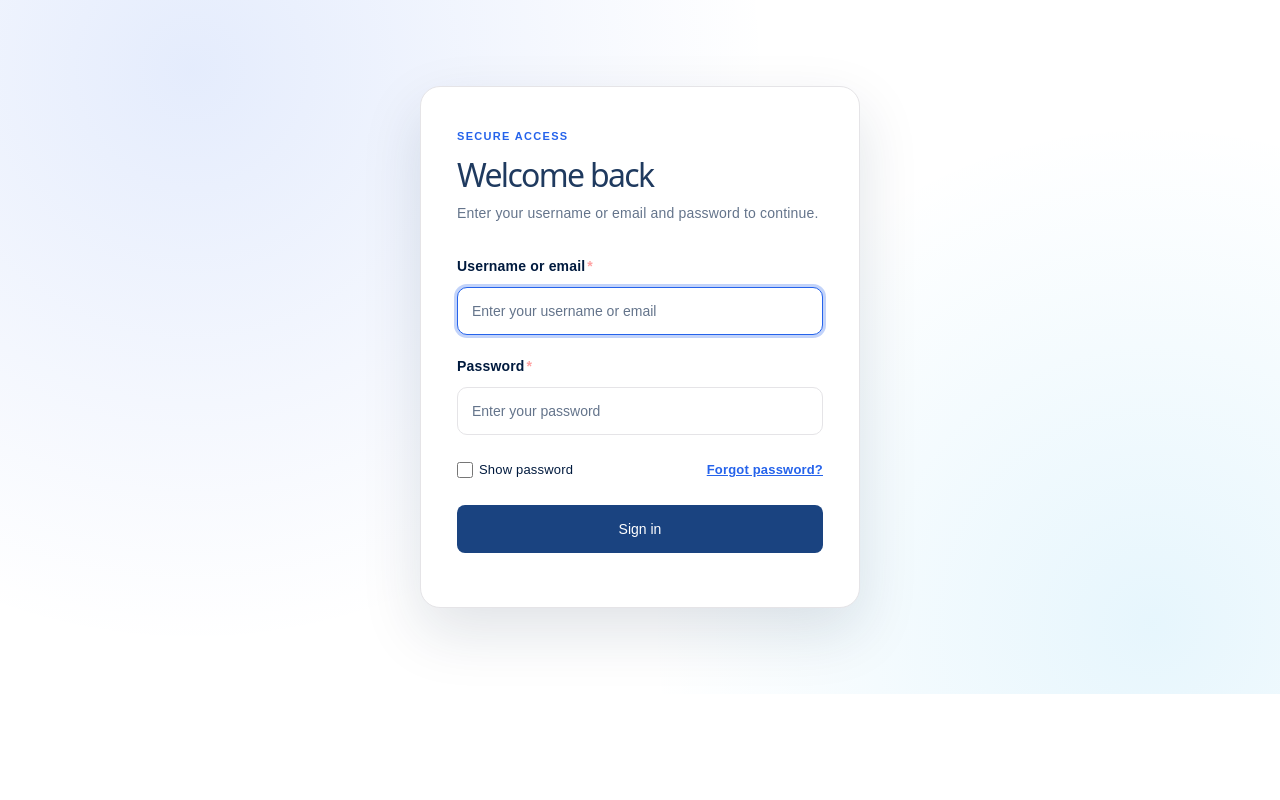
Test case: LoginForm › shows and hides the password without changing its value
In the password field labelled "Password": (640, 411) top-left (457, 387), bottom-right (823, 435), type "secret value"
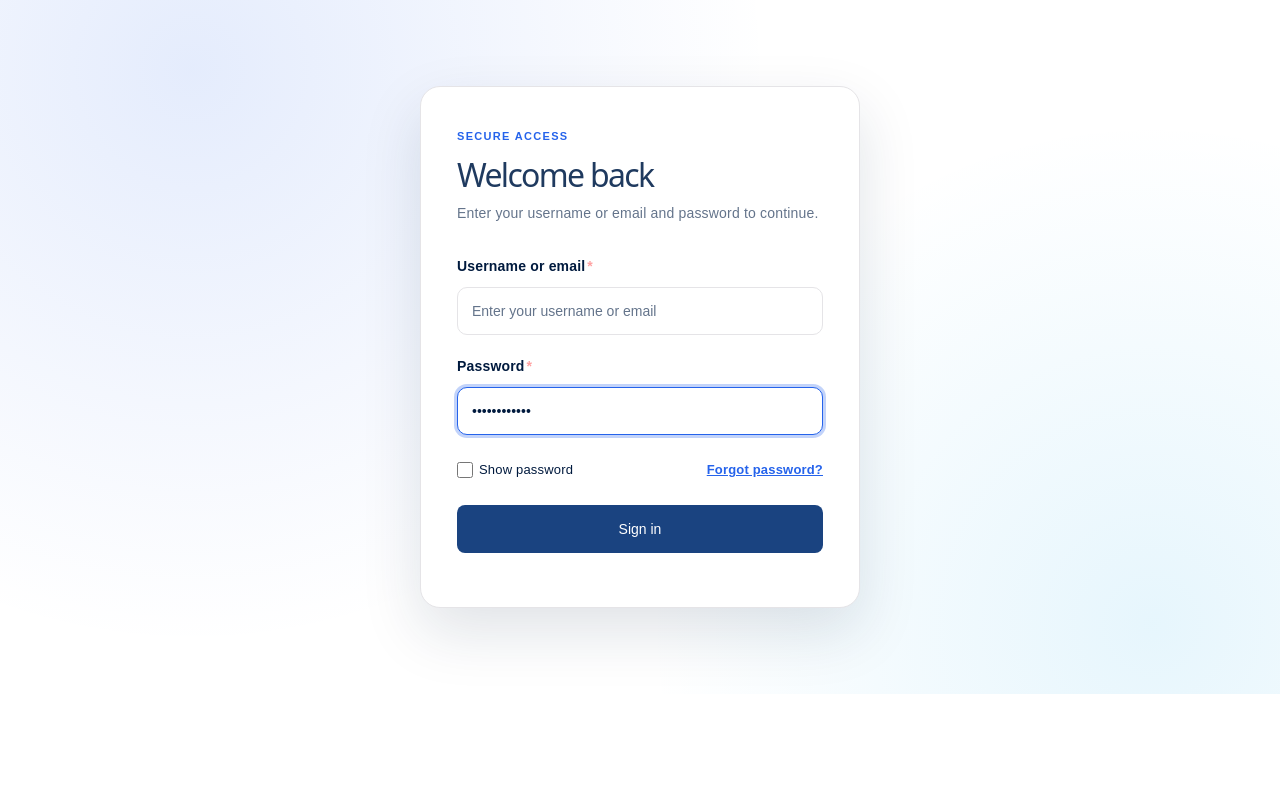
Click the checkbox labelled "Show password": click(465, 470) top-left (457, 462), bottom-right (473, 478)
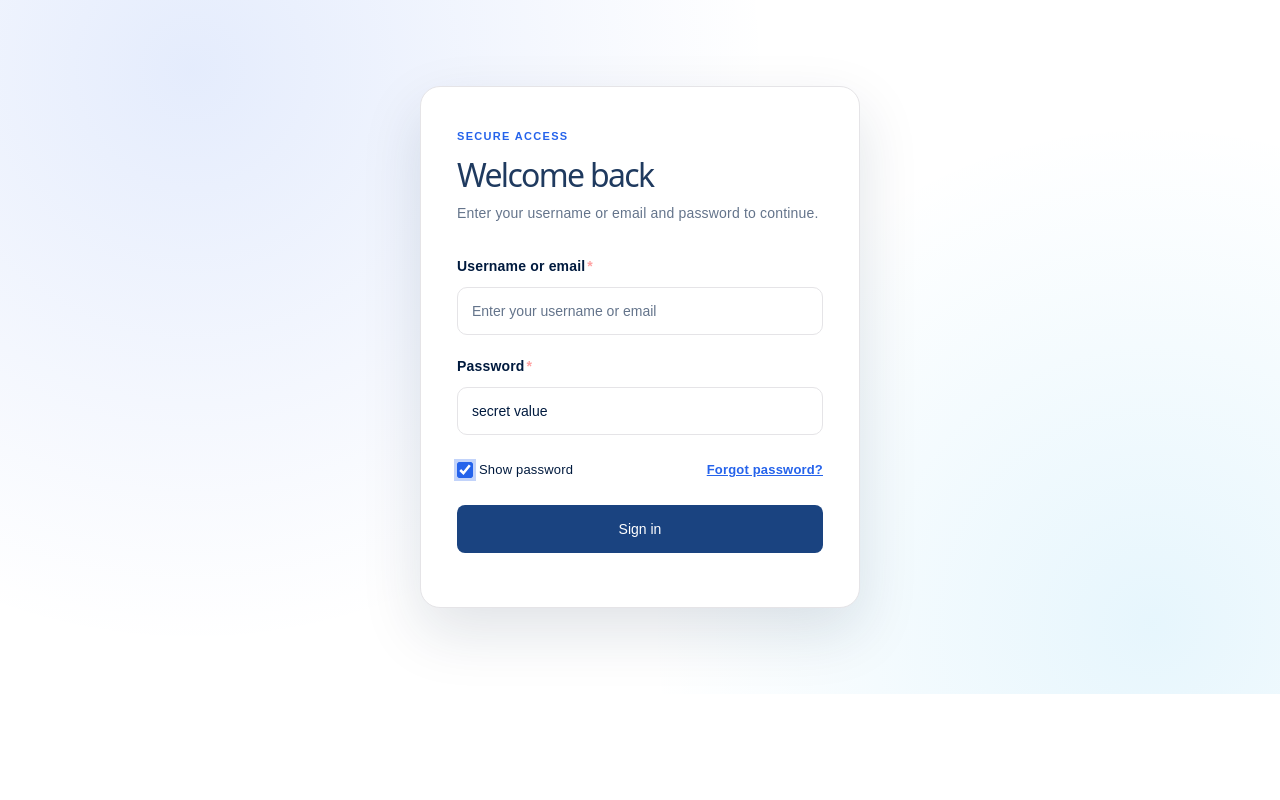
Now the field labelled "Password" shows its text, box top-left (457, 387), bottom-right (823, 435)
Click the checkbox labelled "Show password": click(465, 470) top-left (457, 462), bottom-right (473, 478)
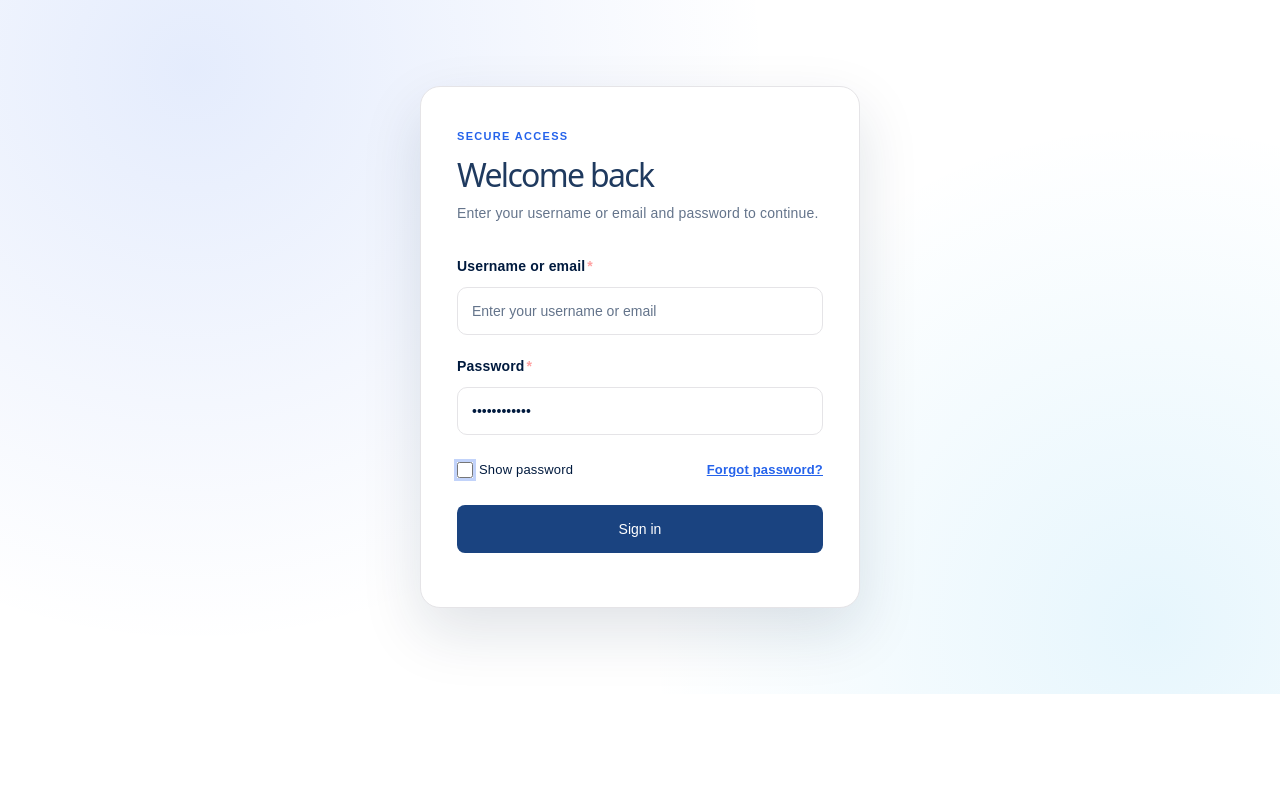
Now the password field labelled "Password" hides its text, box top-left (457, 387), bottom-right (823, 435)
